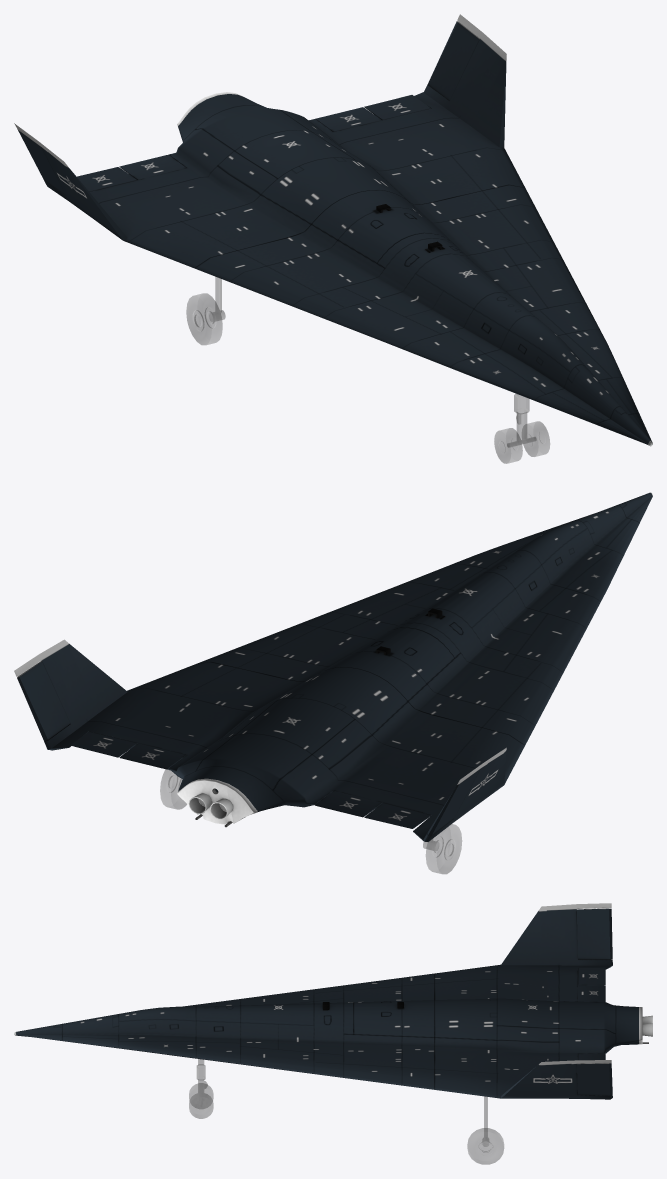
Rendered from wuzhen-8(1).glb.
3 renders of one model, top to bottom at view 1: azimuth 30°, elevation 25°; view 2: azimuth 150°, elevation 25°; view 3: azimuth 270°, elevation 25°, orthographic. The views are drawn at different scales.
Visible parts, largest first — view 1: obj; view 2: obj; view 3: obj.
Boxes of the visible parts, left/top/right/bottom form: obj: left=14, top=14, right=652, bottom=463; obj: left=14, top=492, right=652, bottom=873; obj: left=14, top=903, right=652, bottom=1164.
Bounding box in the file's own units: 6.67 × 2.59 × 11.5.
Materials: 3 (1 with a texture image).
